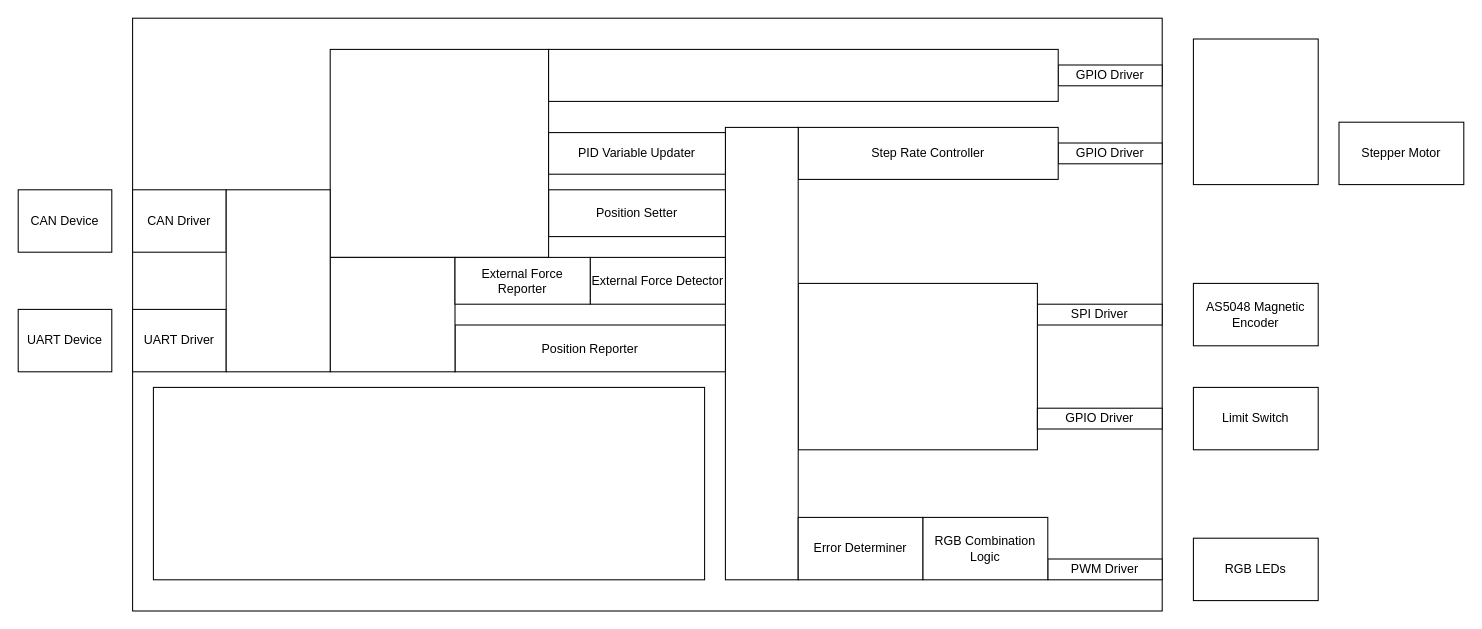
Some shapes in this 1482 by 629 pixel diagram are drawn without their labels. The shapes that lost their labels are listed below. From the top down, each one's centre as x and y in pixels, then its label:
At [803,74]: "Stepper Motor Driver Configuration Updater (On/Off, restart, microstepping, etc)".
At [1255,111]: "A4988 Stepper Motor Driver".
At [439,152]: "Incoming Command Interpreter".
At [277,280]: "Communication Interface Abstraction Layer".
At [392,314]: "OutgoingMessage Constructor".
At [761,353]: "PID Loop".
At [917,366]: "Position Determiner".
At [428,483]: "Scheduler".
